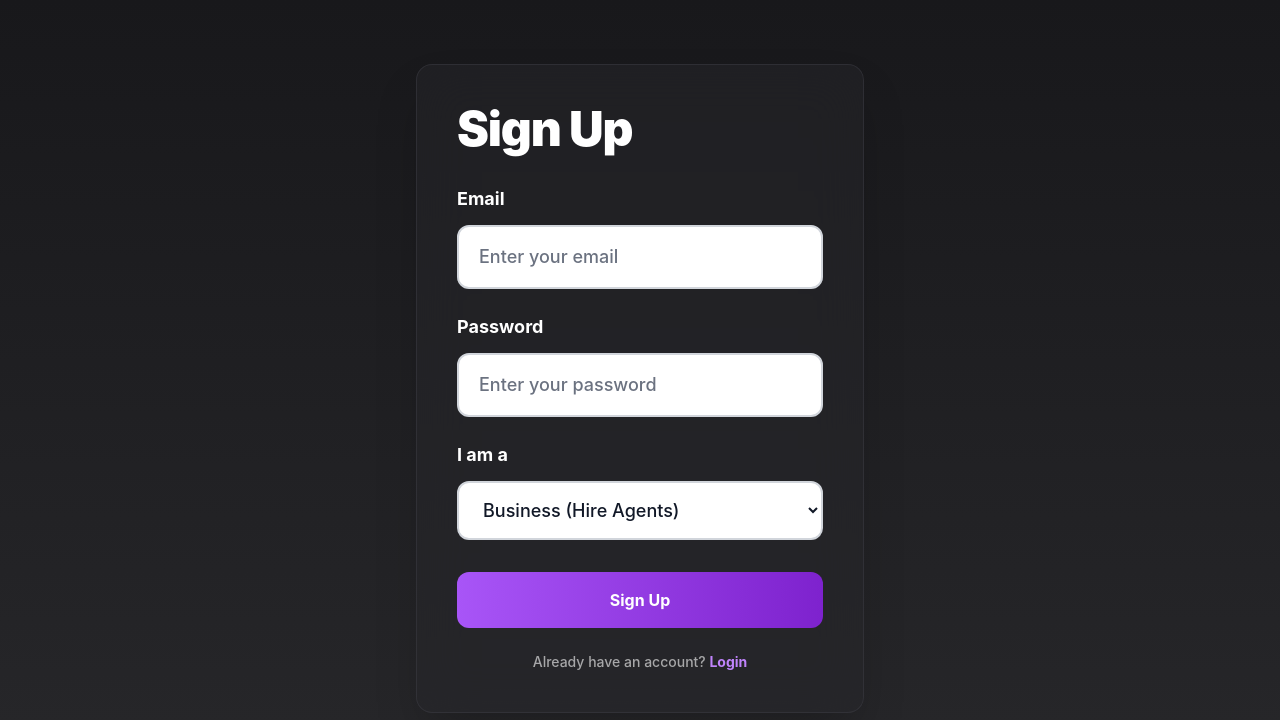
Test: Register Page › displays error message on registration failure
The image size is (1280, 720).
Step 1. Type "existing@test.com" into the field labelled "Email" → x=640, y=257, box [457,225,823,289]
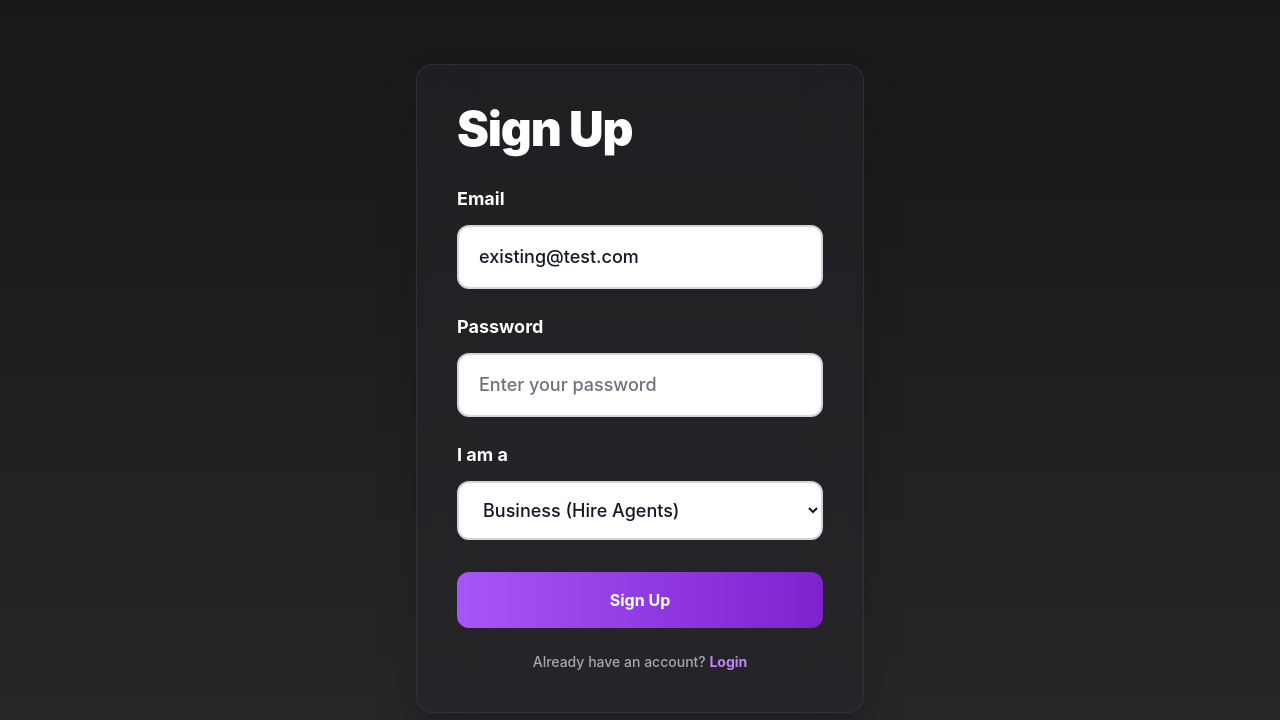
Step 2. Type "pass123" into the password field labelled "Password" → x=640, y=385, box [457,353,823,417]
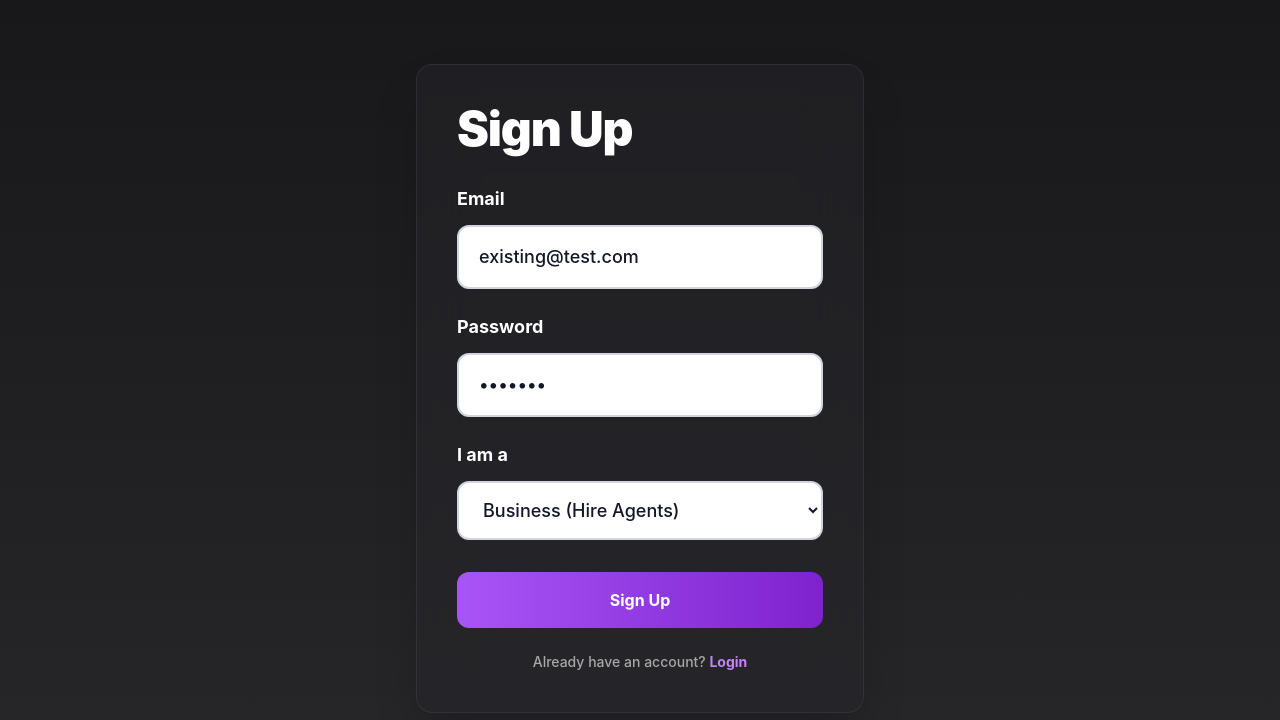
Step 3. Click the button "Sign Up" → x=640, y=600, box [457,572,823,628]
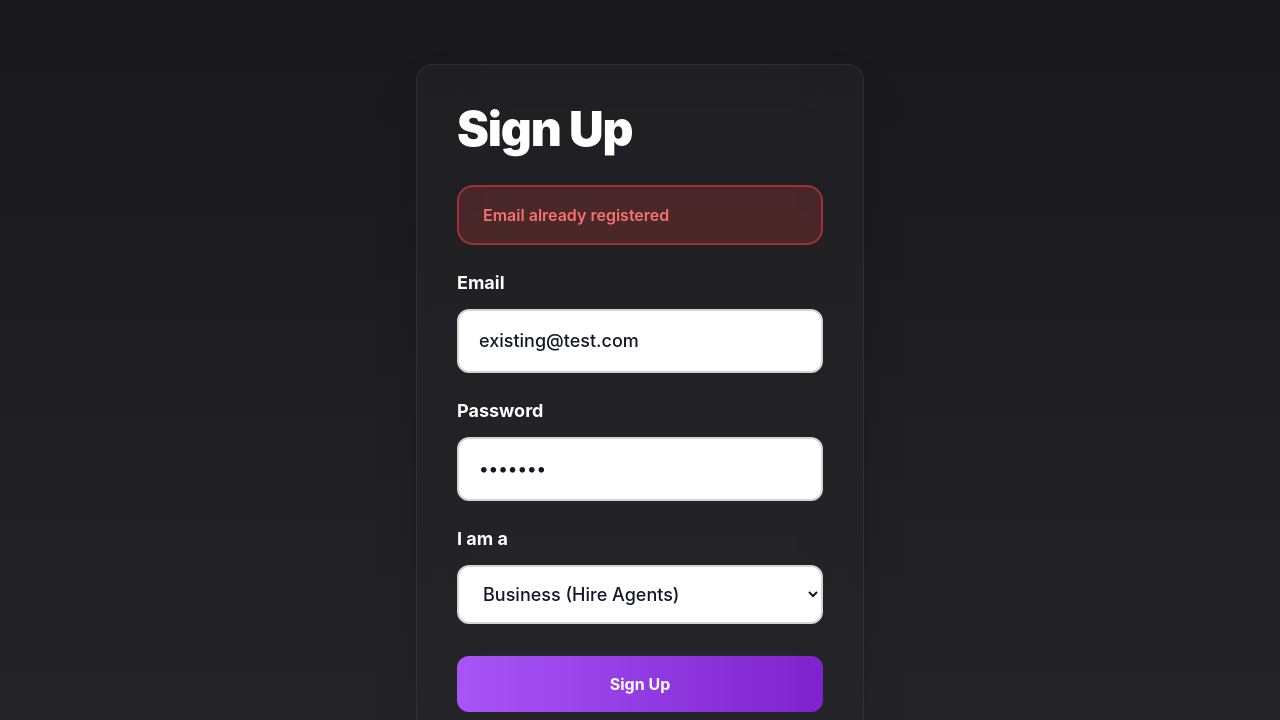
Check: the text "Email already registered" is shown, box [457,185,823,245]
